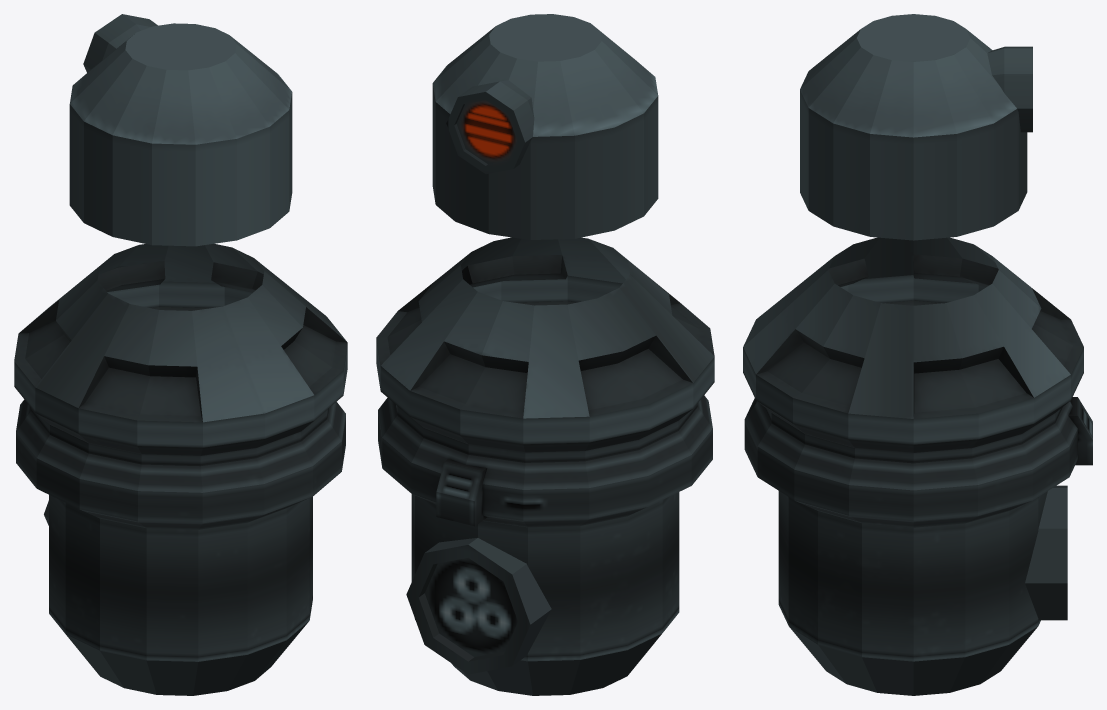
File: Little Guy_disconnected.obj
3 renders of one model, left to right at view 1: azimuth 30°, elevation 25°; view 2: azimuth 150°, elevation 25°; view 3: azimuth 270°, elevation 25°, orthographic.
Parts seen in each view (by area): view 1: Mesh_Cylinder_003_Cylinder; view 2: Mesh_Cylinder_003_Cylinder; view 3: Mesh_Cylinder_003_Cylinder.
Boxes of the visible parts, x1=… form: Mesh_Cylinder_003_Cylinder: x1=14, y1=14, x2=347, y2=695; Mesh_Cylinder_003_Cylinder: x1=376, y1=14, x2=714, y2=695; Mesh_Cylinder_003_Cylinder: x1=743, y1=14, x2=1092, y2=695.
Size of the model in its own units: 0.6 by 1.2 by 0.6156.
